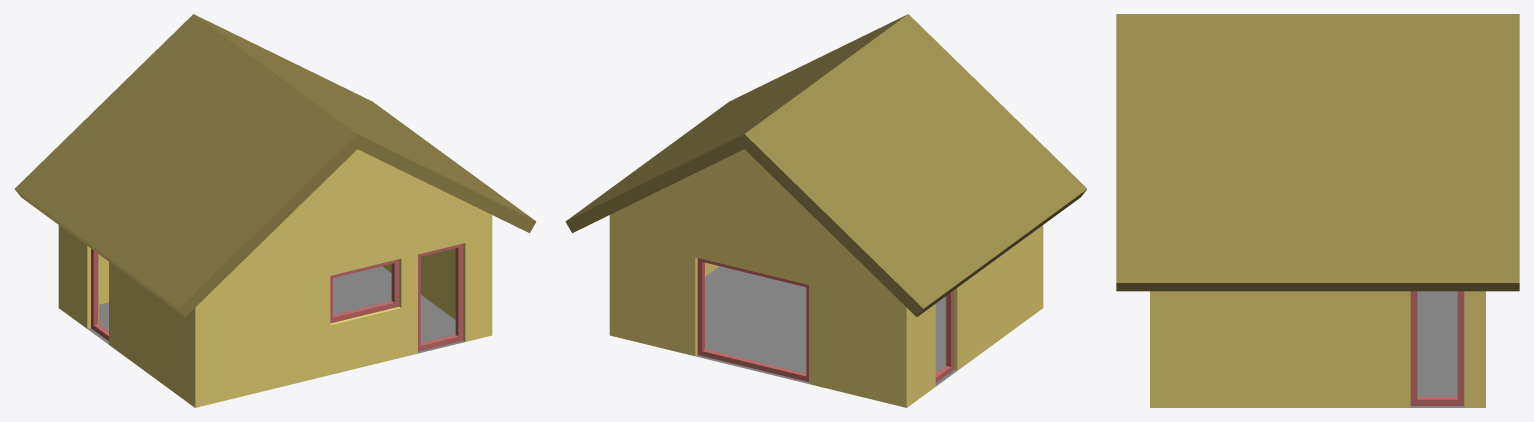
File: result.glb
3 views of the same model, side by side, from view 1: azimuth 30°, elevation 25°; view 2: azimuth 150°, elevation 25°; view 3: azimuth 270°, elevation 25° (orthographic). The views are drawn at different scales.
Visible parts, largest first — view 1: d6bdaf81-fc39-48cb-b427-b5793ba3809a__undefined (×2), f3b32814-f163-4ffb-b61d-450dbcdb4333__undefined, 413c393b-a6c0-42f4-9eca-947b887437af__Plane_6, bc4b48b3-8d87-4ac6-8b23-89f5ca196f11__Box, 6e6f6137-79ef-4f55-8a61-6120e983800d__Box_3, 932ce531-fc91-4175-81b4-2dd9154baa35__Box_12; view 2: d6bdaf81-fc39-48cb-b427-b5793ba3809a__undefined (×2), f3b32814-f163-4ffb-b61d-450dbcdb4333__undefined, 413c393b-a6c0-42f4-9eca-947b887437af__Plane_6, 1ab0b9e2-6f2a-4fb9-a699-a895c45f0fc6__Box_9, 932ce531-fc91-4175-81b4-2dd9154baa35__Box_12; view 3: d6bdaf81-fc39-48cb-b427-b5793ba3809a__undefined, f3b32814-f163-4ffb-b61d-450dbcdb4333__undefined, 413c393b-a6c0-42f4-9eca-947b887437af__Plane_6, 2a268475-a19e-4f36-ab24-9f1bbf214855__Box_15.
Part boxes in pixels (box(x1,y1,x2,y2)): d6bdaf81-fc39-48cb-b427-b5793ba3809a__undefined (×2): box(15, 14, 536, 316); f3b32814-f163-4ffb-b61d-450dbcdb4333__undefined: box(58, 149, 492, 407); 413c393b-a6c0-42f4-9eca-947b887437af__Plane_6: box(87, 266, 464, 353); bc4b48b3-8d87-4ac6-8b23-89f5ca196f11__Box: box(418, 243, 463, 351); 6e6f6137-79ef-4f55-8a61-6120e983800d__Box_3: box(330, 259, 399, 323); 932ce531-fc91-4175-81b4-2dd9154baa35__Box_12: box(91, 249, 108, 340); d6bdaf81-fc39-48cb-b427-b5793ba3809a__undefined (×2): box(565, 14, 1086, 316); f3b32814-f163-4ffb-b61d-450dbcdb4333__undefined: box(609, 149, 1043, 407); 413c393b-a6c0-42f4-9eca-947b887437af__Plane_6: box(695, 266, 956, 386); 1ab0b9e2-6f2a-4fb9-a699-a895c45f0fc6__Box_9: box(697, 258, 808, 381); 932ce531-fc91-4175-81b4-2dd9154baa35__Box_12: box(935, 290, 953, 382); d6bdaf81-fc39-48cb-b427-b5793ba3809a__undefined: box(1116, 14, 1519, 291); f3b32814-f163-4ffb-b61d-450dbcdb4333__undefined: box(1150, 291, 1485, 407); 413c393b-a6c0-42f4-9eca-947b887437af__Plane_6: box(1410, 291, 1464, 407); 2a268475-a19e-4f36-ab24-9f1bbf214855__Box_15: box(1410, 291, 1464, 405).
Size of the model in its own units: 757 by 500 by 600.
